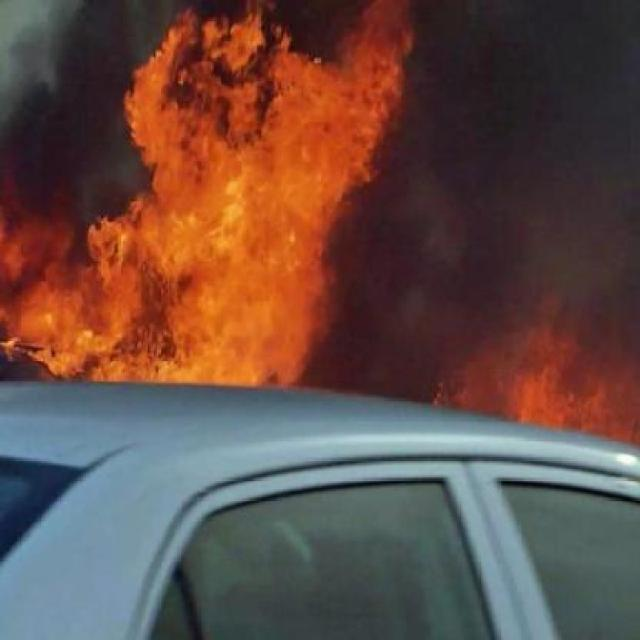Fire: (5, 16, 506, 393)
